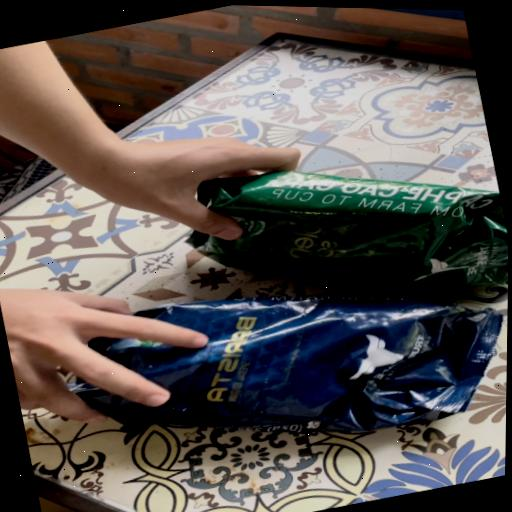cafe_hat: (68, 297, 502, 432)
cafe_xay: (188, 171, 509, 294)
